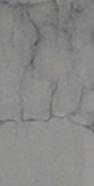fissura: (0, 0, 94, 132)
